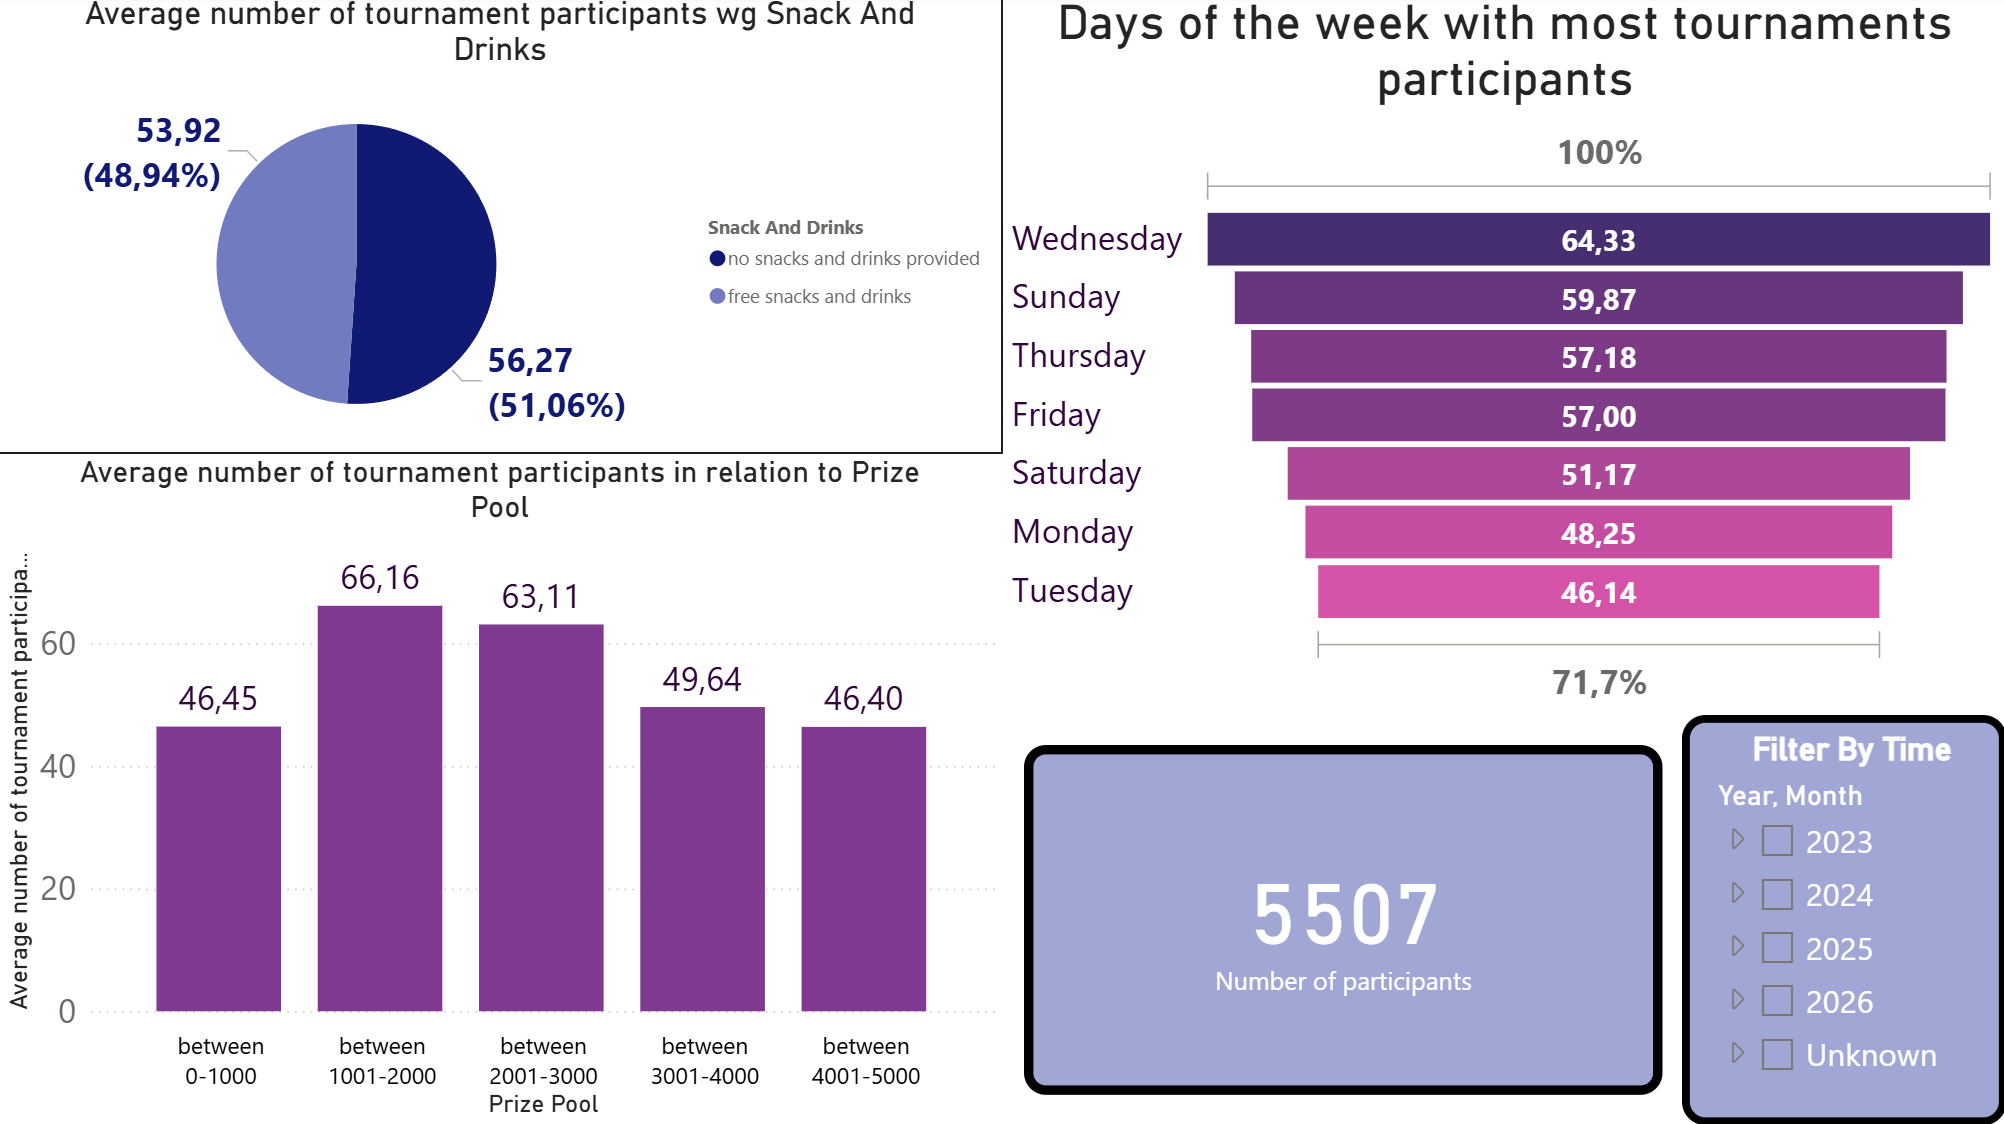

The dashboard page shown, as its layout file describes it:
{"tool":"powerbi","page":{"name":"dashboard1","canvas":[1280,720],"ordinal":0},"visuals":[{"type":"pieChart","fields":{"Category":["Additional Info.Snack And Drinks"],"Y":["Measures.Average number of tournament participants"]},"box":[0,0,641.3,293.2],"z":0},{"type":"funnel","title":"Days of the week with most tournaments participants","fields":{"Y":["Measures.Average number of tournament participants"],"Category":["Date.Day Of Week"]},"box":[641.4,0,638.6,458.6],"z":1000},{"type":"clusteredColumnChart","title":"Average number of tournament participants in relation to Prize Pool","fields":{"Y":["Measures.Average number of tournament participants"],"Category":["Junk.Prize Pool"]},"box":[0,293.2,641.3,427.1],"z":2000},{"type":"slicer","title":"Filter By Time","fields":{"Values":["Date.Year","Date.Month"]},"box":[1072.9,458.6,207.1,261.4],"z":3000},{"type":"card","fields":{"Values":["Participation.Number of participants"]},"box":[654.3,478.6,407.1,222.9],"z":4000}]}

Visuals, with their boxes in screenshot pixels (x1, y1, x2, y2), scaled from the page's 1280x720 canvas onto the 2004x1124 screenshot:
pieChart - Additional Info.Snack And Drinks x Measures.Average number of tournament participants: bbox(0, 0, 1004, 458)
"Days of the week with most tournaments participants" funnel: bbox(1004, 0, 2003, 716)
"Average number of tournament participants in relation to Prize Pool" clusteredColumnChart: bbox(0, 458, 1004, 1123)
"Filter By Time" slicer: bbox(1680, 716, 2003, 1123)
card - Participation.Number of participants: bbox(1024, 747, 1662, 1095)
